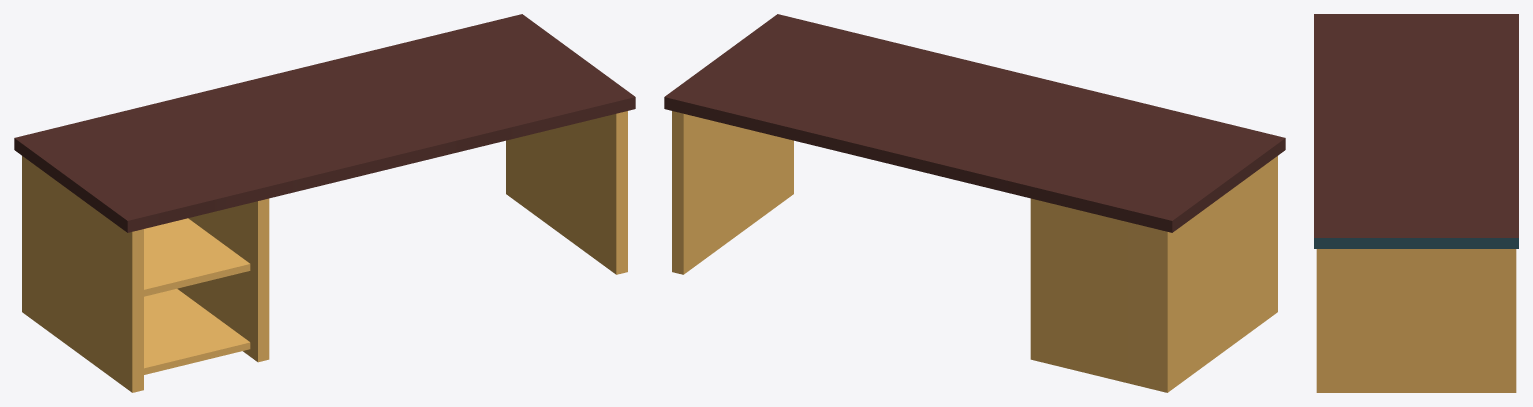
Rendered from office_table_027.glb.
The picture shows the model from 3 angles, left to right: view 1: azimuth 30°, elevation 25°; view 2: azimuth 150°, elevation 25°; view 3: azimuth 270°, elevation 25°; orthographic projection. The views are drawn at different scales.
Parts seen in each view (by area): view 1: office_table_027; view 2: office_table_027; view 3: office_table_027.
Boxes of the visible parts, x1=… form: office_table_027: x1=14, y1=14, x2=635, y2=392; office_table_027: x1=664, y1=14, x2=1285, y2=392; office_table_027: x1=1314, y1=14, x2=1518, y2=392.
Bounding box in the file's own units: 2.18 × 0.7156 × 0.8421.
Materials: 1 (1 with a texture image).
